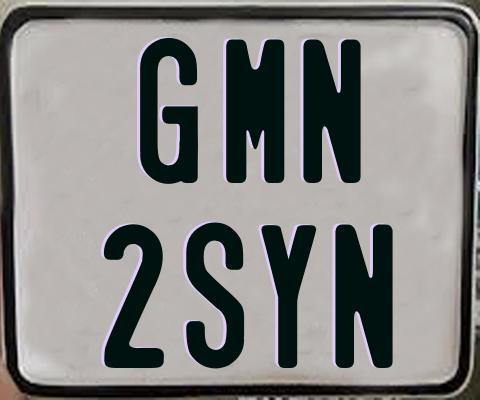2: (102, 222, 164, 369)
G: (139, 36, 202, 182)
M: (223, 37, 284, 186)
N: (332, 221, 394, 370), (303, 38, 365, 183)
S: (184, 219, 242, 366)
Y: (258, 224, 315, 370)
